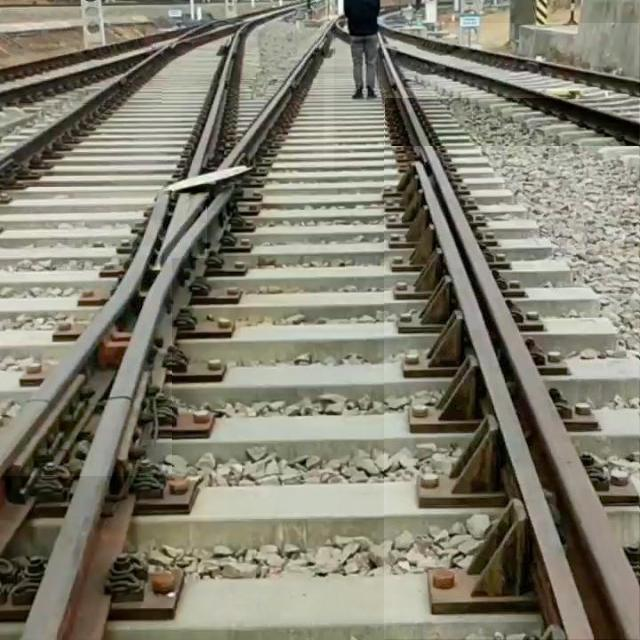rail: (386, 44, 640, 640), (23, 191, 230, 640), (1, 2, 325, 183), (1, 189, 173, 477), (1, 2, 317, 83), (387, 46, 640, 147), (379, 24, 640, 99), (220, 23, 335, 170), (189, 25, 252, 177), (1, 51, 163, 105), (159, 195, 208, 259)
